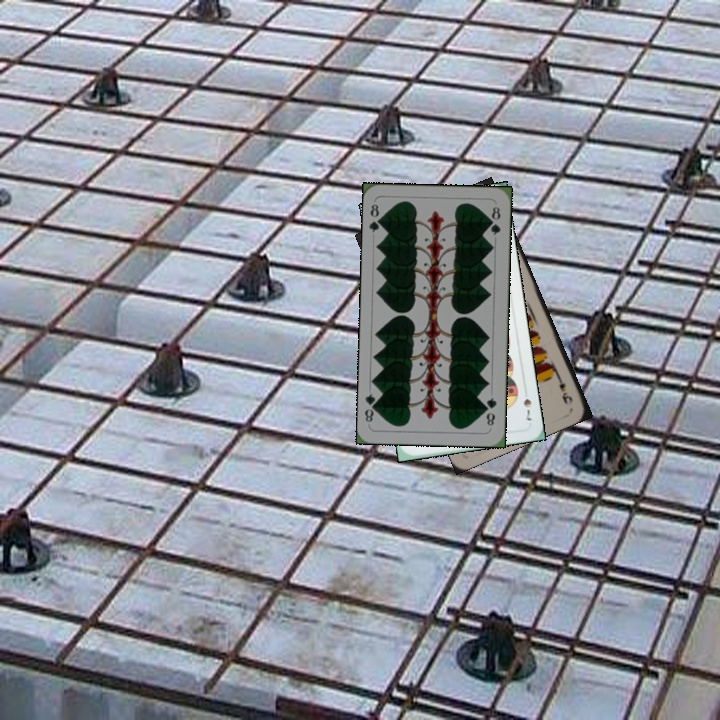E9: (552, 370, 575, 407)
G8: (365, 200, 385, 235), (481, 393, 499, 430)
S7: (519, 385, 536, 423)
